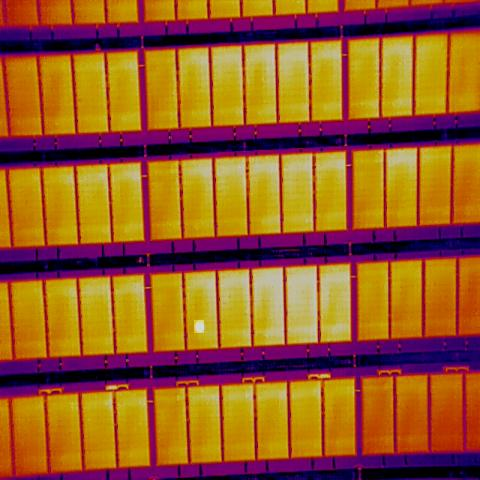fault: (194, 320, 204, 333)
